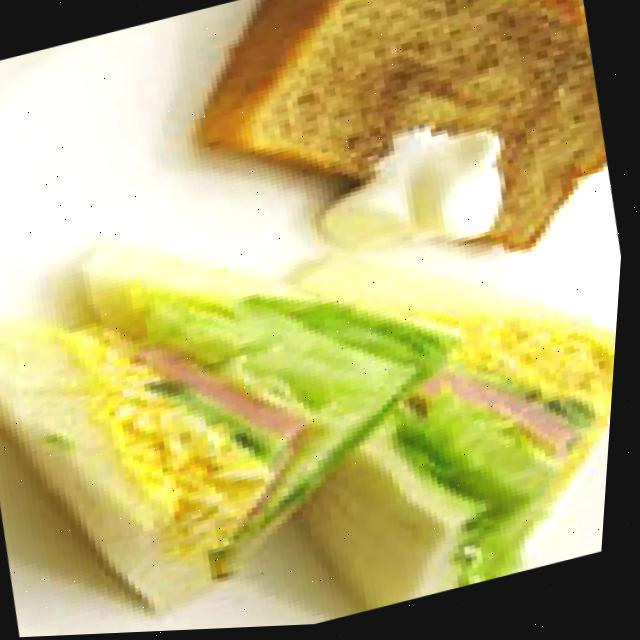三明治: (0, 118, 633, 640)
